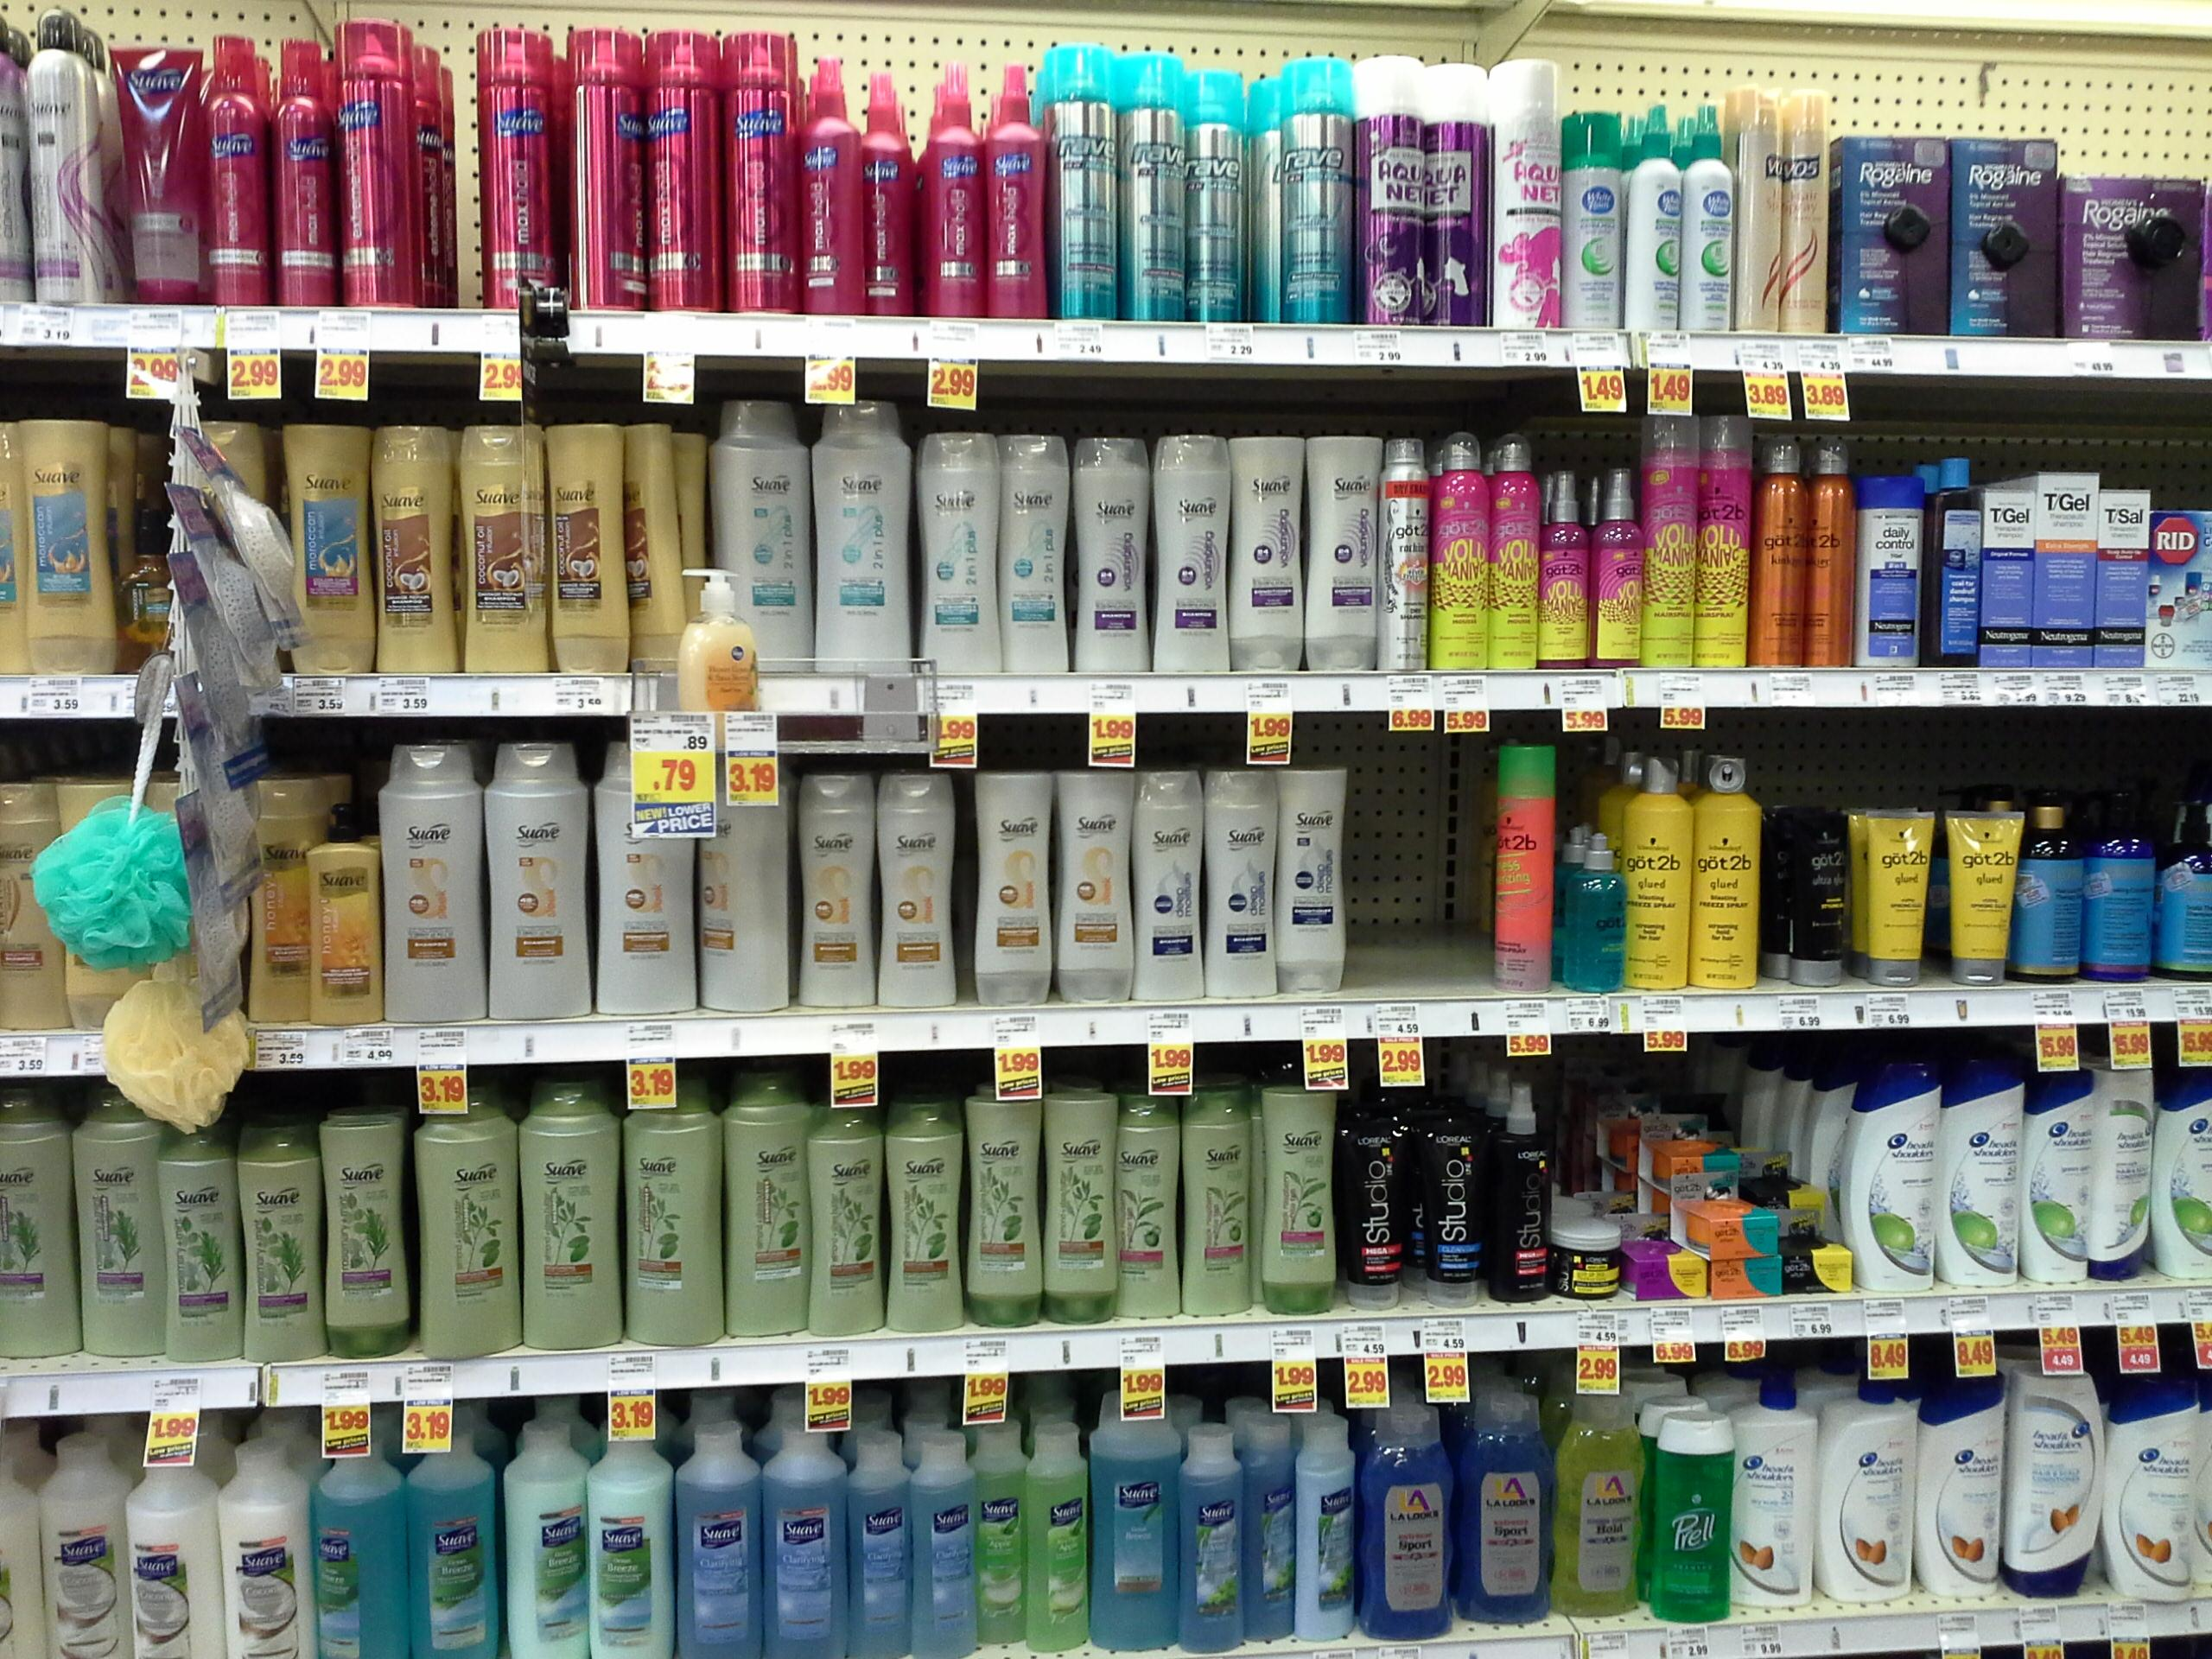empty: (1345, 770, 1482, 992)
